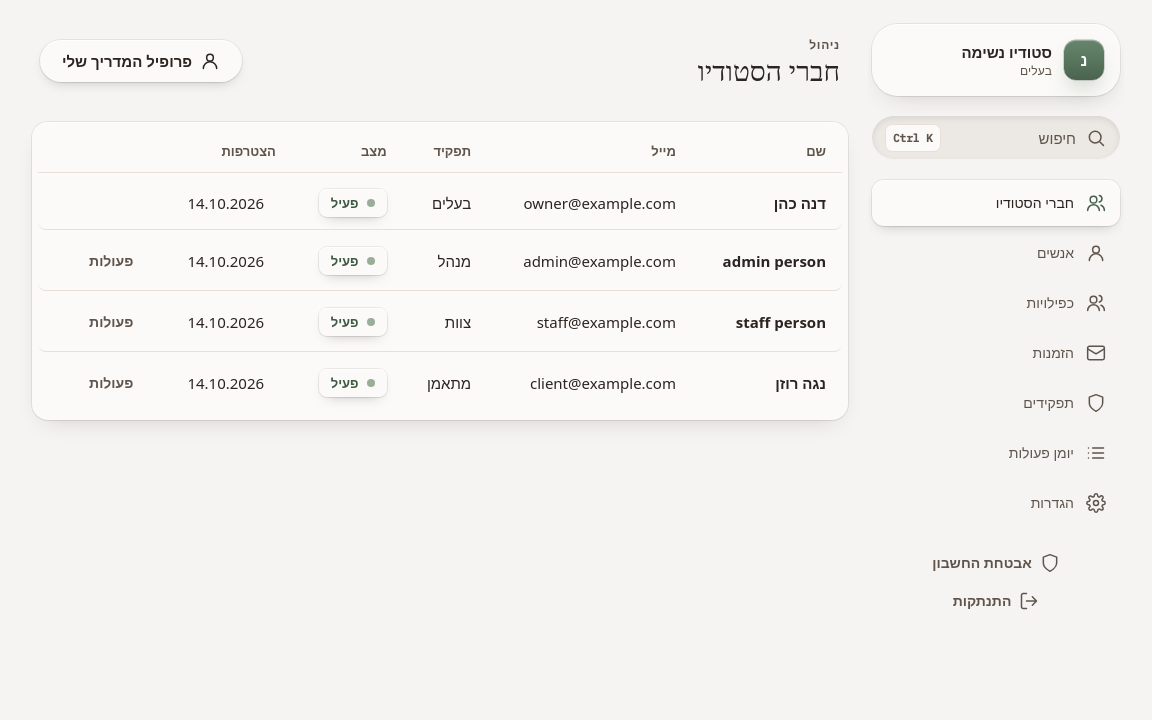
Test: member actions › suspends a member
What coordinates should you click on to do the following:
click the button "פעולות" in the row of "staff person"
I would click on:
 (111, 322)
Its box is [67,305,155,339].
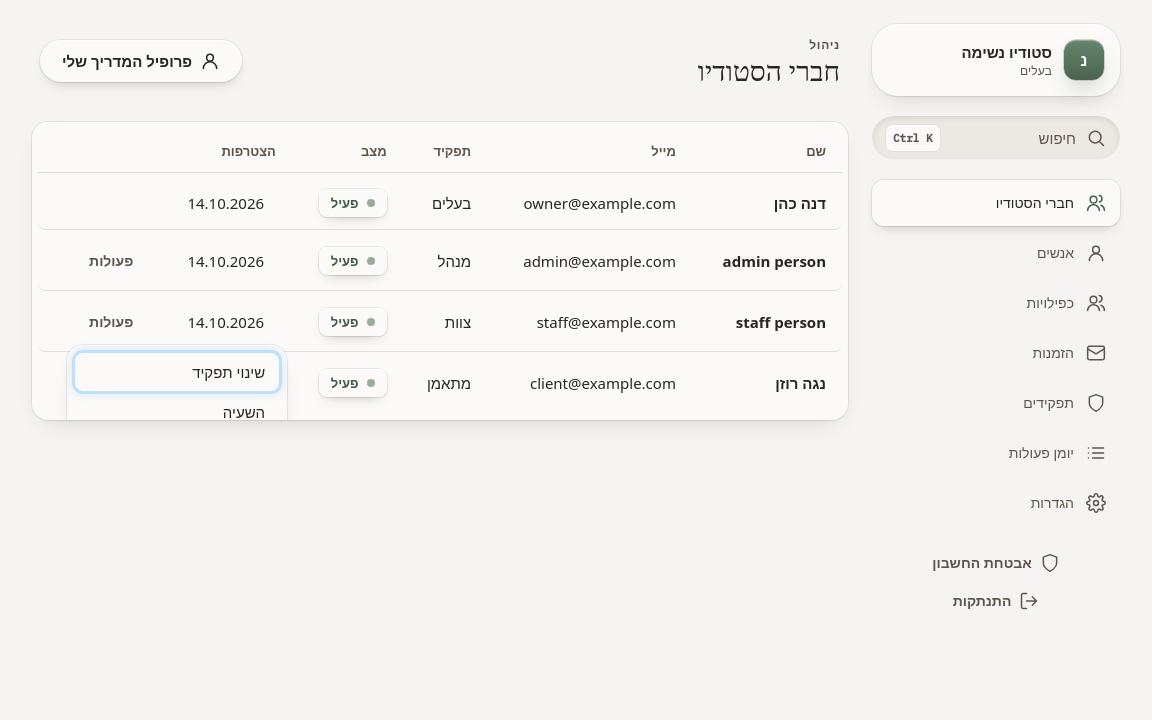
What coordinates should you click on to do the following:
click the menu item "השעיה"
I would click on:
 (177, 412)
Its box is [75,393,279,431].
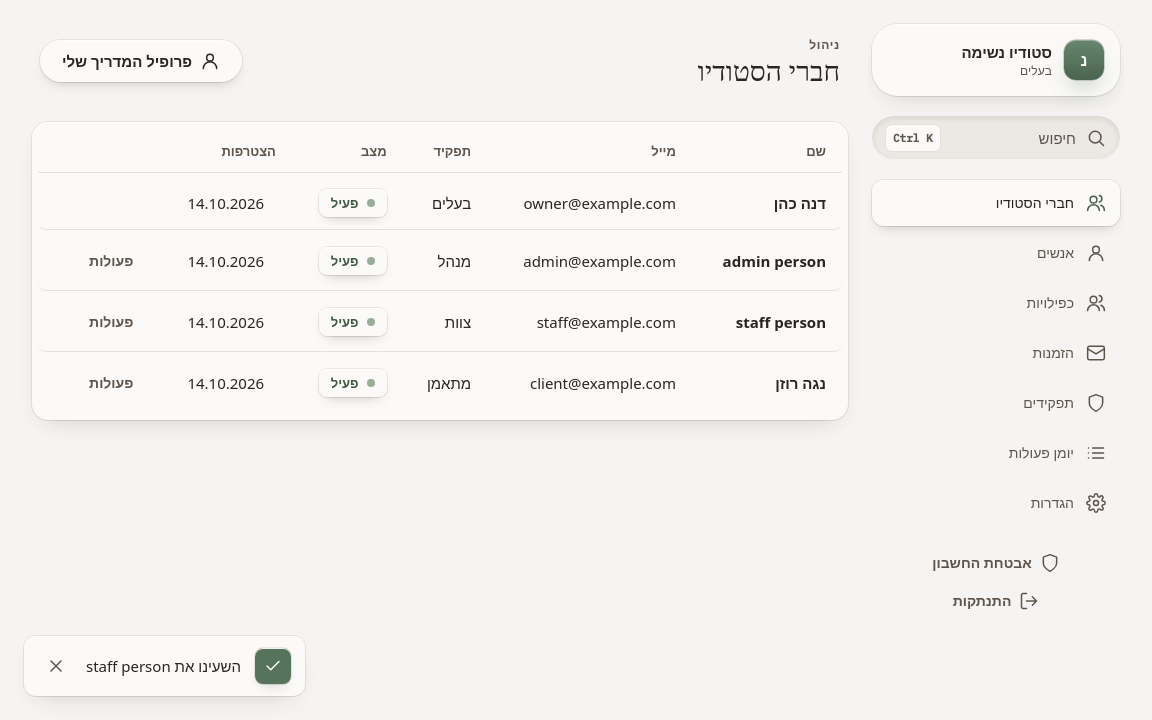
Expected: the text "השעינו את staff person" is shown, [86,655,241,677]
